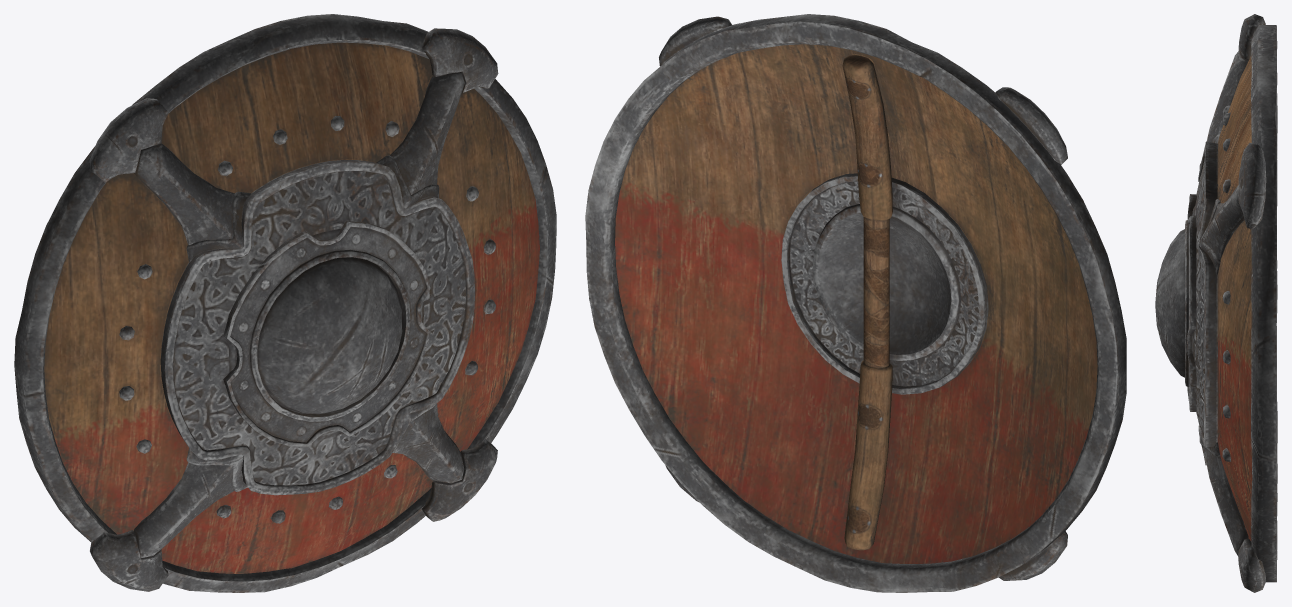
Rendered from shield.obj.
The picture shows the model from 3 angles, left to right: view 1: azimuth 30°, elevation 25°; view 2: azimuth 150°, elevation 25°; view 3: azimuth 270°, elevation 25°; orthographic projection. The views are drawn at different scales.
Parts seen in each view (by area): view 1: obj1; view 2: obj1; view 3: obj1.
Part boxes in pixels (x1,y1,x2,y2): obj1: [14, 14, 556, 592]; obj1: [585, 14, 1126, 592]; obj1: [1155, 14, 1277, 592].
Bounding box in the file's own units: 1.01 × 1.02 × 0.2232.
1 material, 1 textured.
